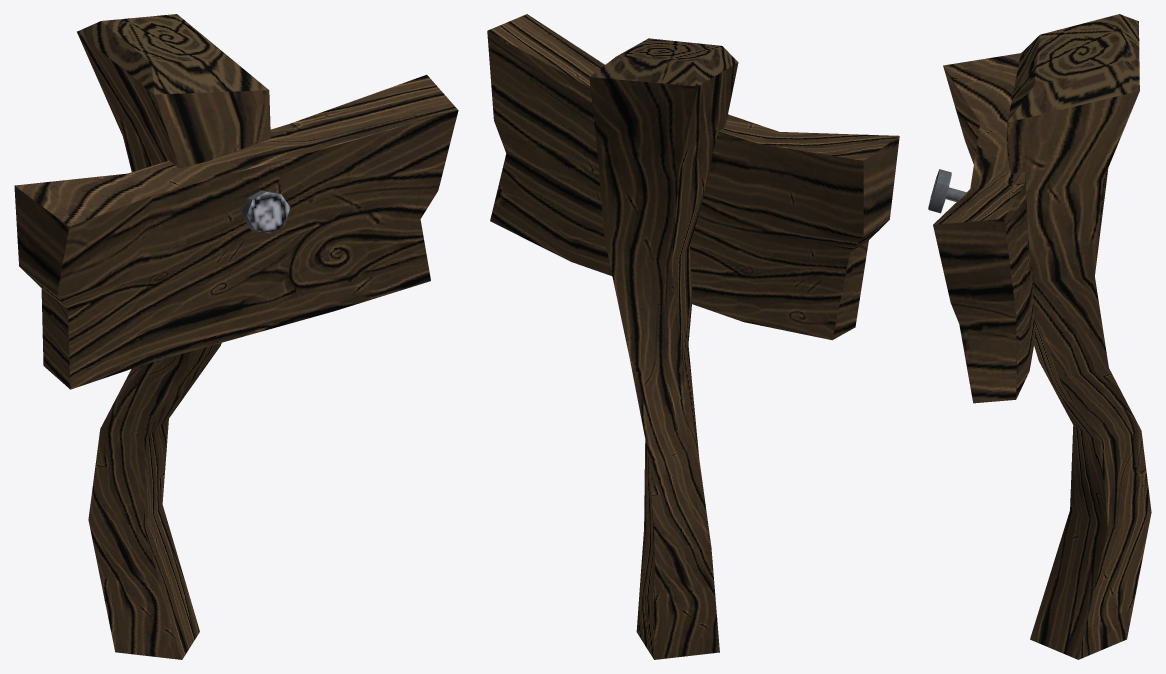
File: 표지판.fbx
The picture shows the model from 3 angles, left to right: view 1: azimuth 30°, elevation 25°; view 2: azimuth 150°, elevation 25°; view 3: azimuth 270°, elevation 25°; orthographic projection.
Visible parts, largest first — view 1: node_id30; view 2: node_id30; view 3: node_id30.
Part boxes in pixels (x1,y1,x2,y2): node_id30: (14, 14, 458, 659); node_id30: (487, 14, 899, 659); node_id30: (928, 14, 1151, 659).
Bounding box in the file's own units: 0.3468 × 0.512 × 0.1703.
1 material, 1 textured.
